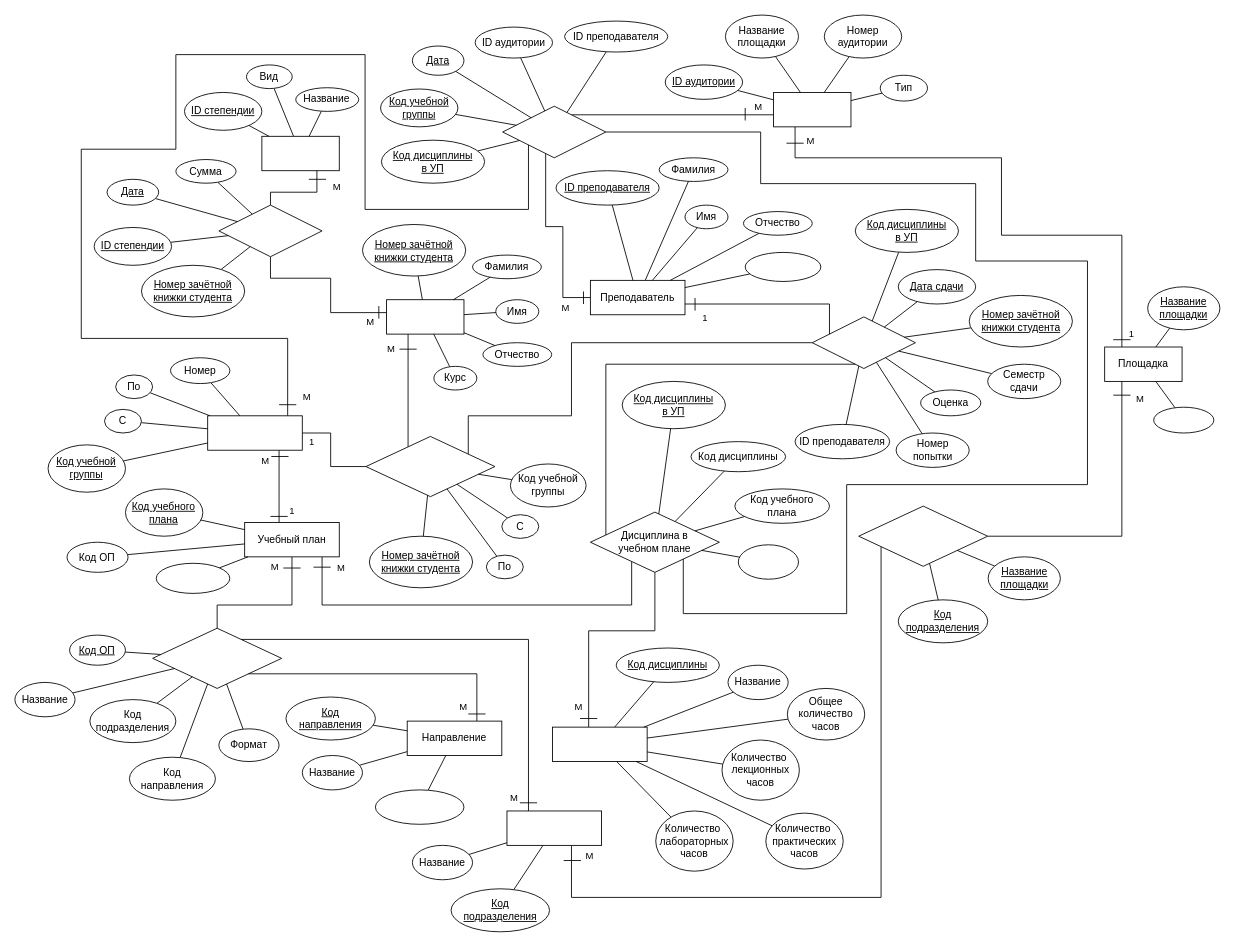
Image size: 1236x947. Some labels were removed from this diagram. Here are the shapes that lost their labels. From the top down, the centre of each, then its label:
At [812,109]: "Аудитория".
At [554,131]: "Расписание сессии".
At [300,153]: "Стипендия".
At [270,230]: "Получение стипендии".
At [782,266]: "Должность".
At [425,316]: "Студент".
At [863,342]: "Аттестация".
At [254,432]: "Учебная группа".
At [1183,419]: "Адрес".
At [430,466]: "Студент в учебной группе".
At [923,535]: "Подразделение на площадке".
At [192,577]: "Год приёма".
At [768,561]: "Семестр".
At [217,657]: "Образовательная программа".
At [599,744]: "Дисциплина".
At [419,806]: "Квалификация".
At [554,827]: "Подразделение".
